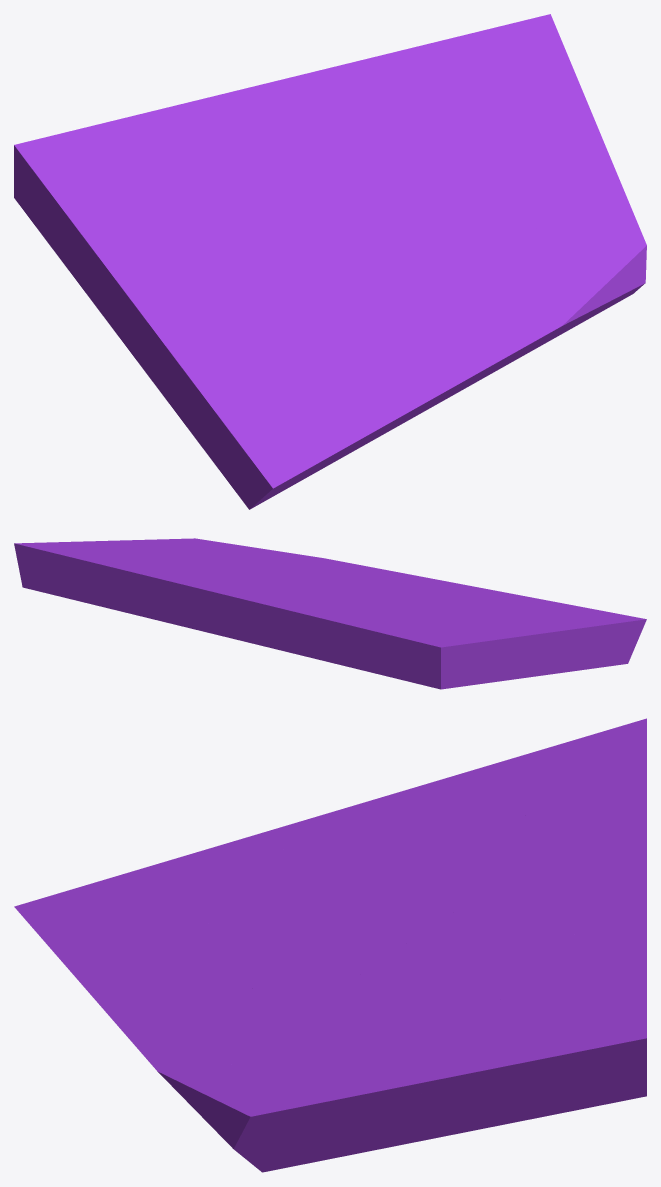
The model's file is Window_164_1_chunks.fbx.
The picture shows the model from 3 angles, top to bottom: view 1: azimuth 30°, elevation 25°; view 2: azimuth 150°, elevation 25°; view 3: azimuth 270°, elevation 25°; orthographic projection. The views are drawn at different scales.
Parts seen in each view (by area): view 1: Window_164_1_5, Window_164_1_9, Window_164_1_14, Window_164_1_6, Window_164_1_8, Window_164_1_11, Window_164_1_2, Window_164_1_3, Window_164_1_12, Window_164_1_1, Window_164_1_19, Window_164_1_21 (+7 smaller); view 2: Window_164_1_21, Window_164_1_9, Window_164_1_11, Window_164_1_19, Window_164_1_14, Window_164_1_6, Window_164_1_5, Window_164_1_10, Window_164_1_17, Window_164_1_8, Window_164_1_2, Window_164_1_12 (+7 smaller); view 3: Window_164_1_5, Window_164_1_2, Window_164_1_8, Window_164_1_9, Window_164_1_19, Window_164_1_6, Window_164_1_14, Window_164_1_12, Window_164_1_3, Window_164_1_11, Window_164_1_1, Window_164_1_21 (+7 smaller).
Boxes of the visible parts, <box> form: Window_164_1_5: <box>267,205,446,422</box>; Window_164_1_9: <box>124,88,439,231</box>; Window_164_1_14: <box>187,365,394,509</box>; Window_164_1_6: <box>85,118,349,258</box>; Window_164_1_8: <box>421,80,605,222</box>; Window_164_1_11: <box>14,127,183,264</box>; Window_164_1_2: <box>492,146,646,318</box>; Window_164_1_3: <box>442,271,625,394</box>; Window_164_1_12: <box>164,199,268,330</box>; Window_164_1_1: <box>420,207,509,363</box>; Window_164_1_19: <box>454,14,577,110</box>; Window_164_1_21: <box>245,34,468,106</box>; Window_164_1_21: <box>79,559,257,637</box>; Window_164_1_9: <box>223,574,366,671</box>; Window_164_1_11: <box>385,619,487,689</box>; Window_164_1_19: <box>14,542,133,607</box>; Window_164_1_14: <box>511,593,646,670</box>; Window_164_1_6: <box>317,590,429,686</box>; Window_164_1_5: <box>306,578,509,610</box>; Window_164_1_10: <box>481,622,561,683</box>; Window_164_1_17: <box>474,612,584,676</box>; Window_164_1_8: <box>67,540,284,574</box>; Window_164_1_2: <box>119,538,246,563</box>; Window_164_1_12: <box>402,607,522,626</box>; Window_164_1_5: <box>75,885,425,1005</box>; Window_164_1_2: <box>215,1017,422,1172</box>; Window_164_1_8: <box>365,970,553,1140</box>; Window_164_1_9: <box>358,784,646,987</box>; Window_164_1_19: <box>512,983,646,1114</box>; Window_164_1_6: <box>373,760,646,930</box>; Window_164_1_14: <box>14,850,210,975</box>; Window_164_1_12: <box>285,817,497,887</box>; Window_164_1_3: <box>100,1000,235,1130</box>; Window_164_1_11: <box>479,718,646,827</box>; Window_164_1_1: <box>144,976,375,1035</box>; Window_164_1_21: <box>573,856,646,989</box>.
Bounding box in the file's own units: 1066 × 366 × 892.
